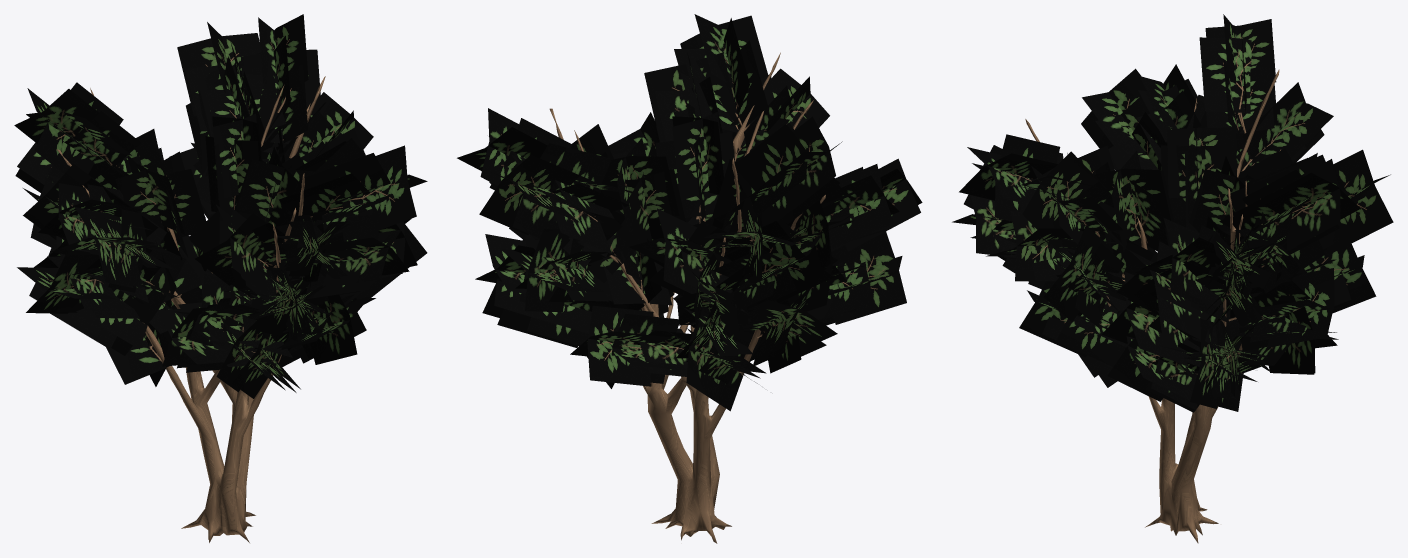
The model's file is Arbousier_V10_2_LOD0.fbx.
3 views of the same model, side by side, from view 1: azimuth 30°, elevation 25°; view 2: azimuth 150°, elevation 25°; view 3: azimuth 270°, elevation 25° (orthographic). The views are drawn at different scales.
Parts seen in each view (by area): view 1: Arbousier_V10_2_LOD0; view 2: Arbousier_V10_2_LOD0; view 3: Arbousier_V10_2_LOD0.
Part boxes in pixels (bbox=[...]): Arbousier_V10_2_LOD0: bbox=[14, 14, 427, 542]; Arbousier_V10_2_LOD0: bbox=[457, 14, 922, 543]; Arbousier_V10_2_LOD0: bbox=[952, 14, 1393, 543].
Bounding box in the file's own units: 224 × 262 × 234.
